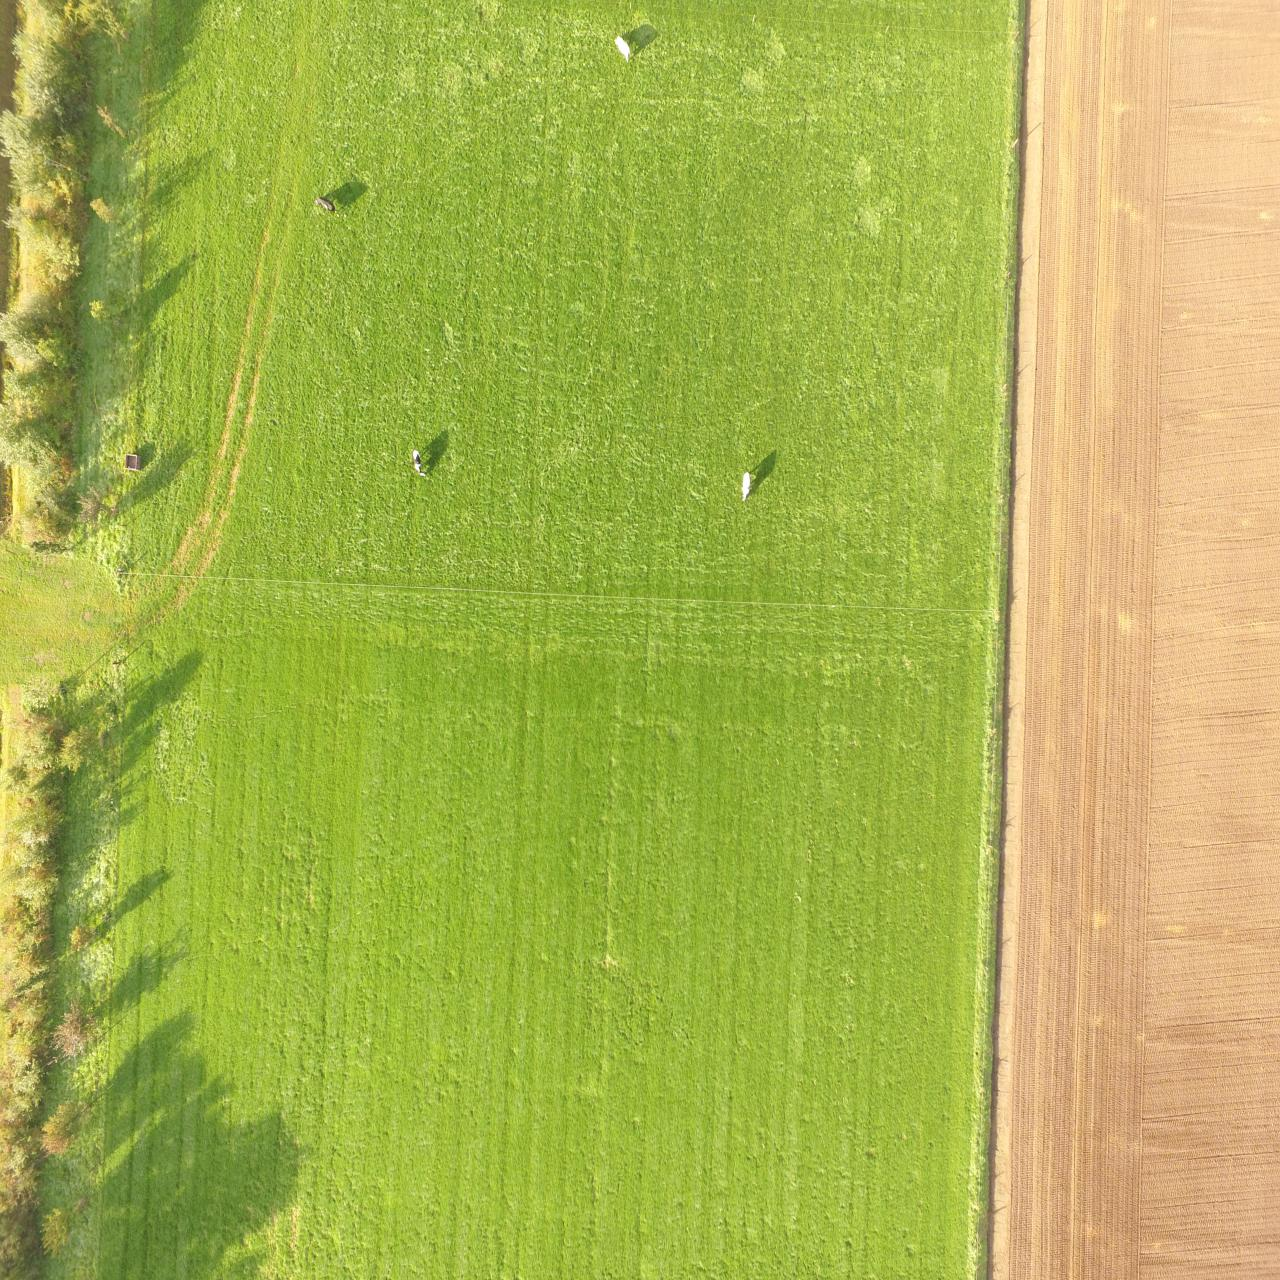cow: (612, 32, 634, 66), (312, 192, 337, 215), (412, 448, 426, 478), (740, 469, 751, 503)
